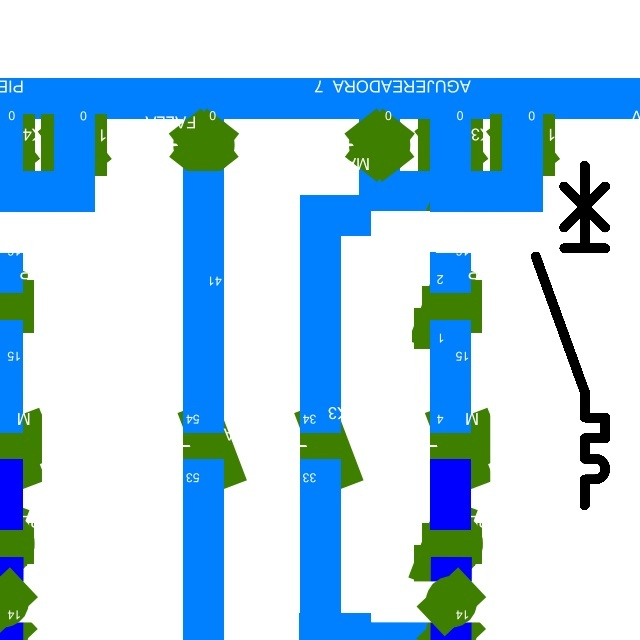interruptor_termomagnetico: (527, 157, 614, 514)
